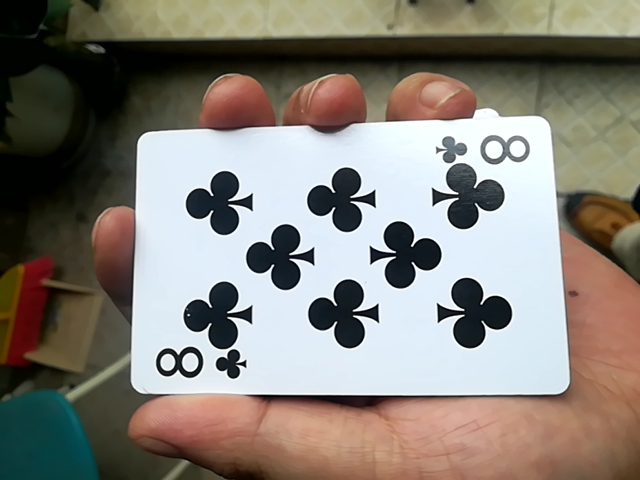mh 8: (117, 118, 565, 419)
